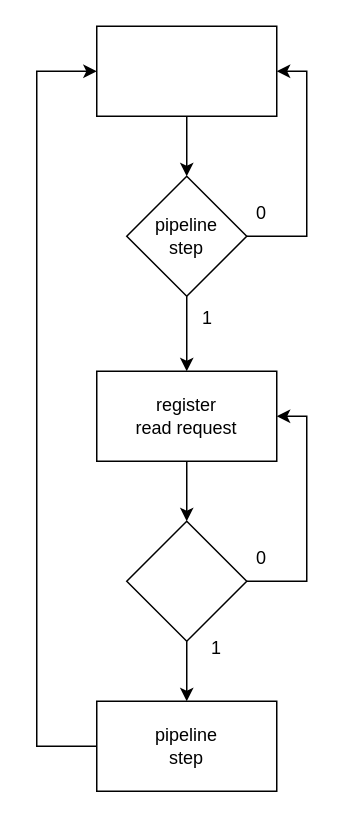
Some shapes in this 345 by 818 pixel diagram are drawn without their labels. The box of each missing label's shape, as (x1, y1, x2, y2) in pixels:
register ready: (125, 520, 247, 641)
step wait: (95, 25, 277, 116)
